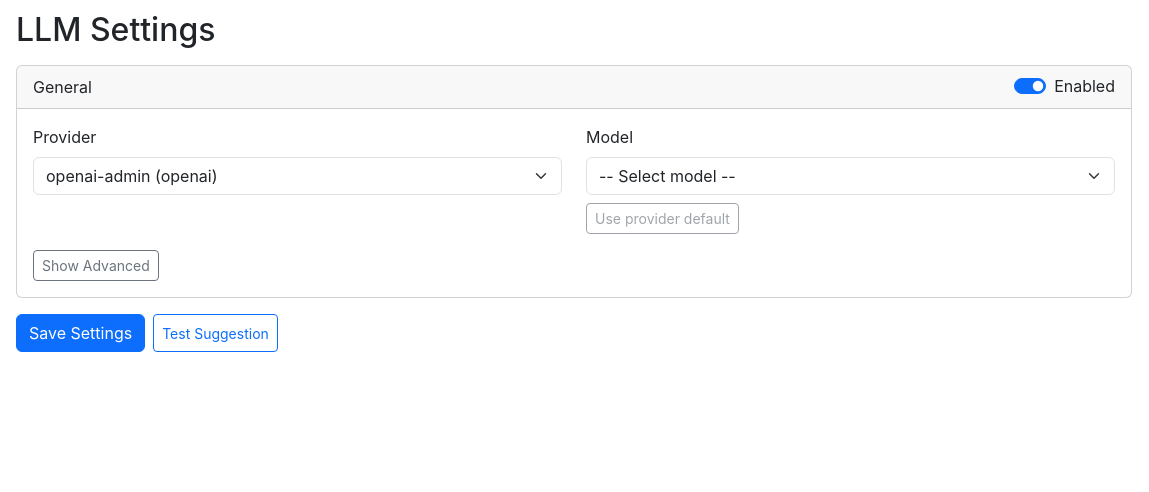
LLM Settings Page › opens Test Suggestions panel on click
The width and height of the screenshot is (1149, 492).
Click the button "Test Suggestion" at (216, 333), box [153,314,278,352]
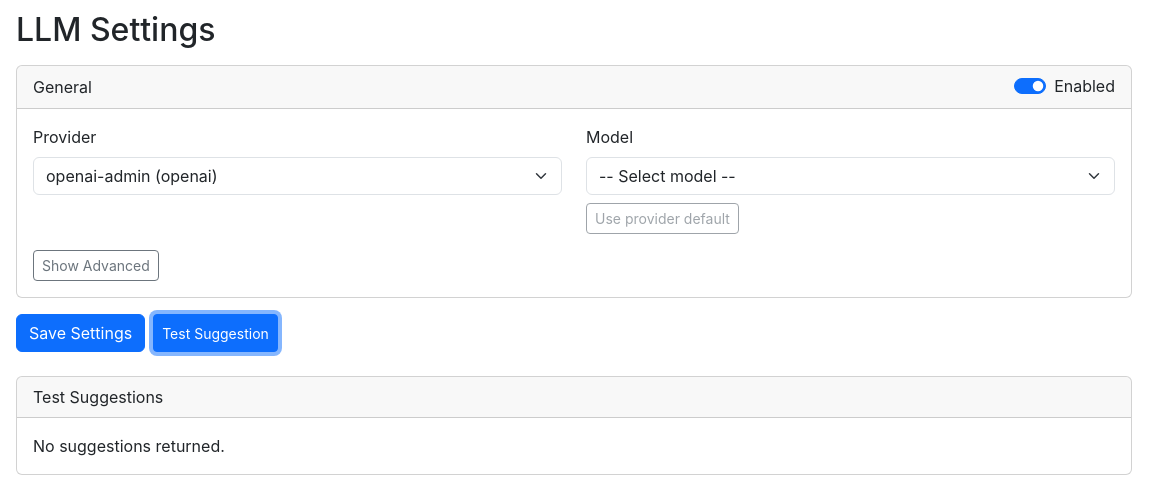
Now the text "Test Suggestions" is shown, box [33,385,163,409]
